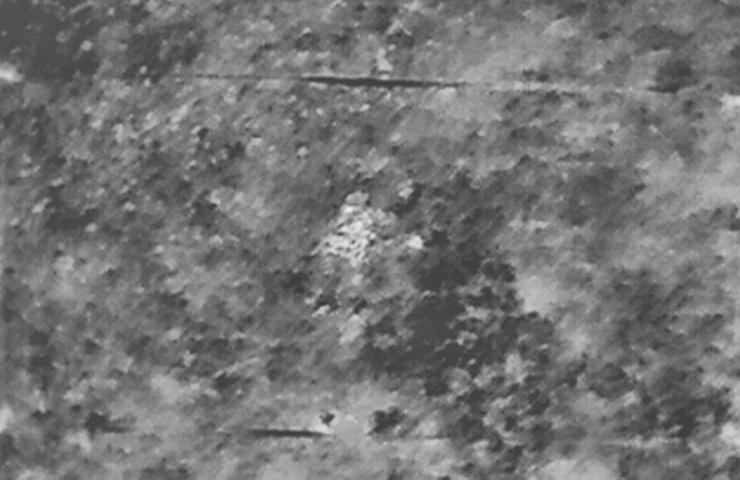landmines: (324, 197, 380, 264)
